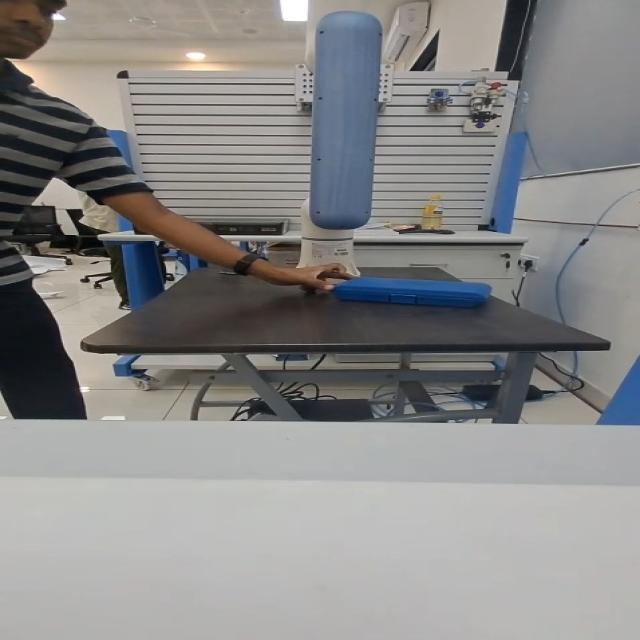top-surface: (357, 280, 478, 289)
